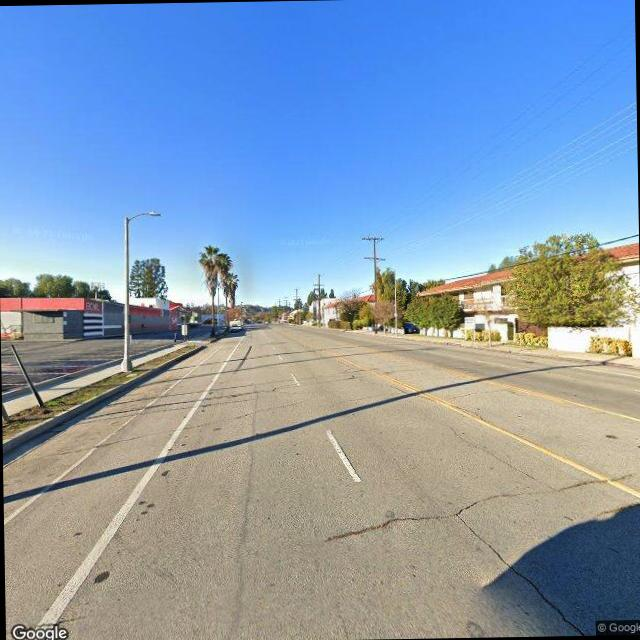crack: (317, 462, 640, 545), (446, 504, 588, 636), (439, 417, 556, 491)
